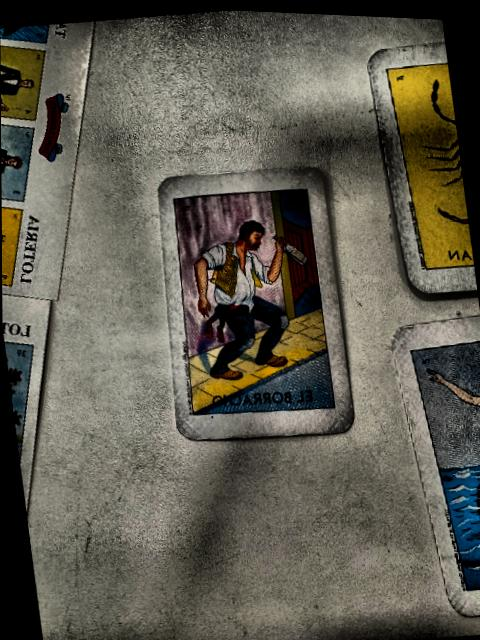El Borracho: (173, 185, 331, 410)
